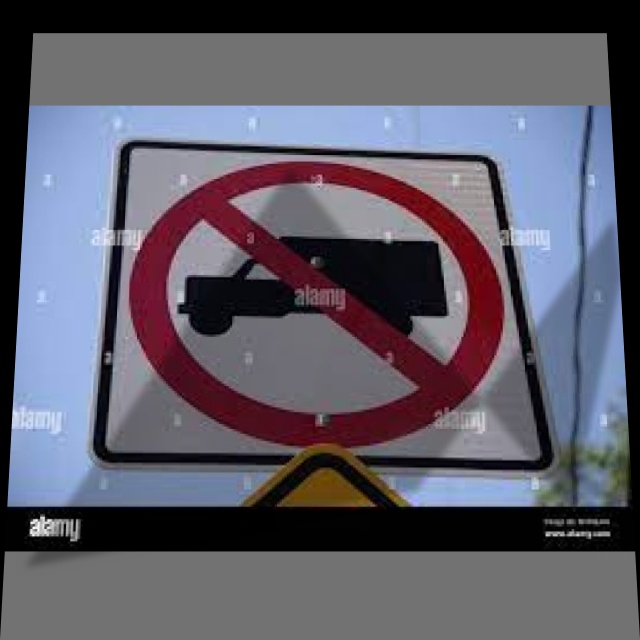Truck_Prohibited: (126, 157, 521, 443)
